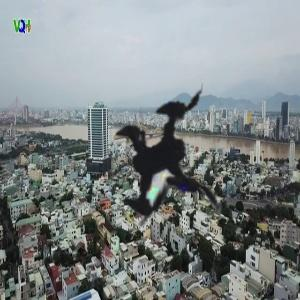drone: (20, 23, 287, 290)
